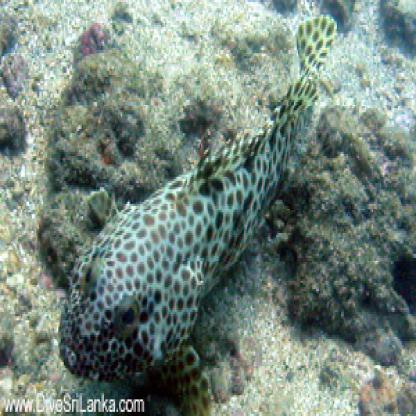Serranidae -Groupers-: (54, 9, 345, 415)
